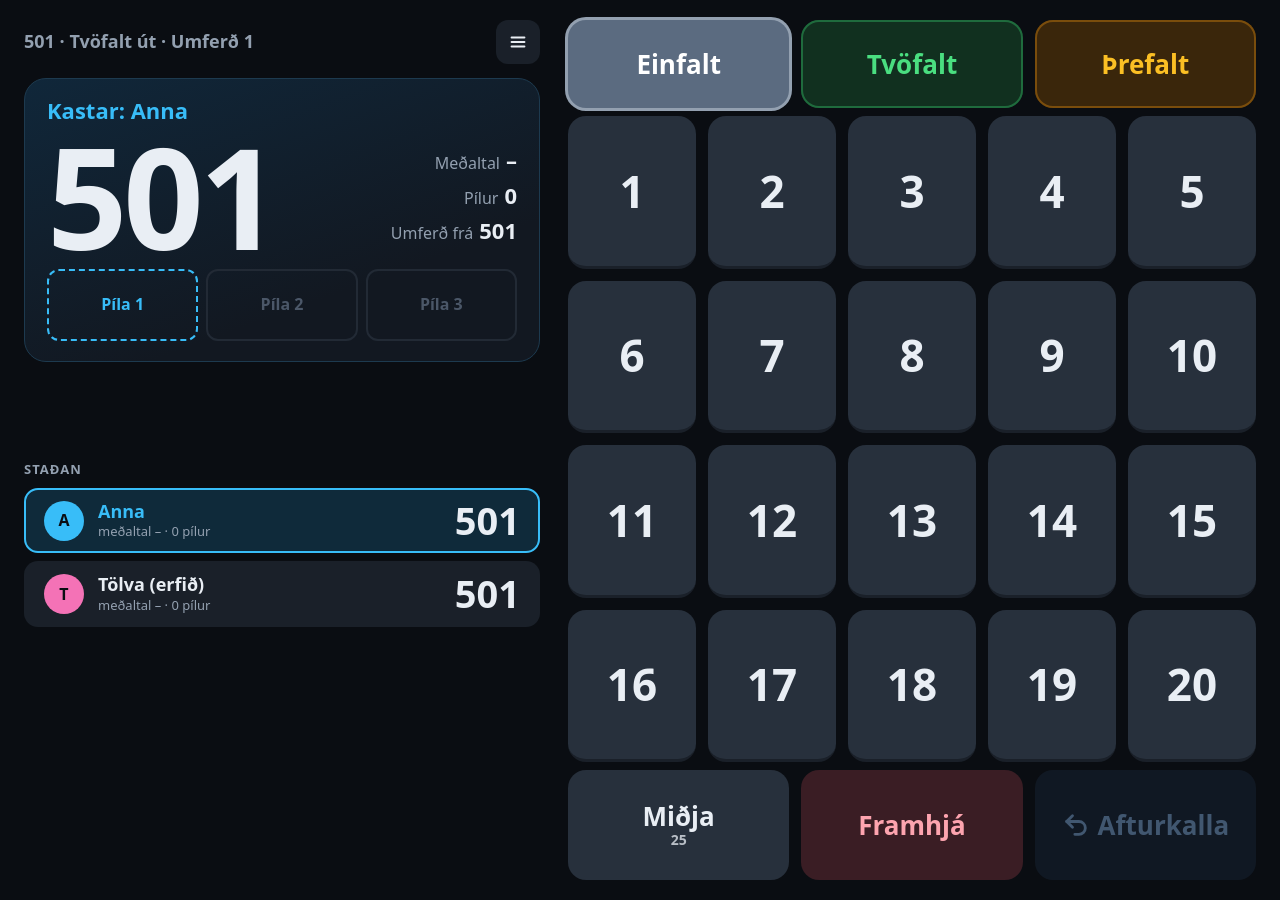
Test: GameShell with a computer › takes back a turn the computer is still throwing
Click the button named "Einfalt 20".
click(1192, 686)  # box x1=1128 y1=610 x2=1256 y2=762
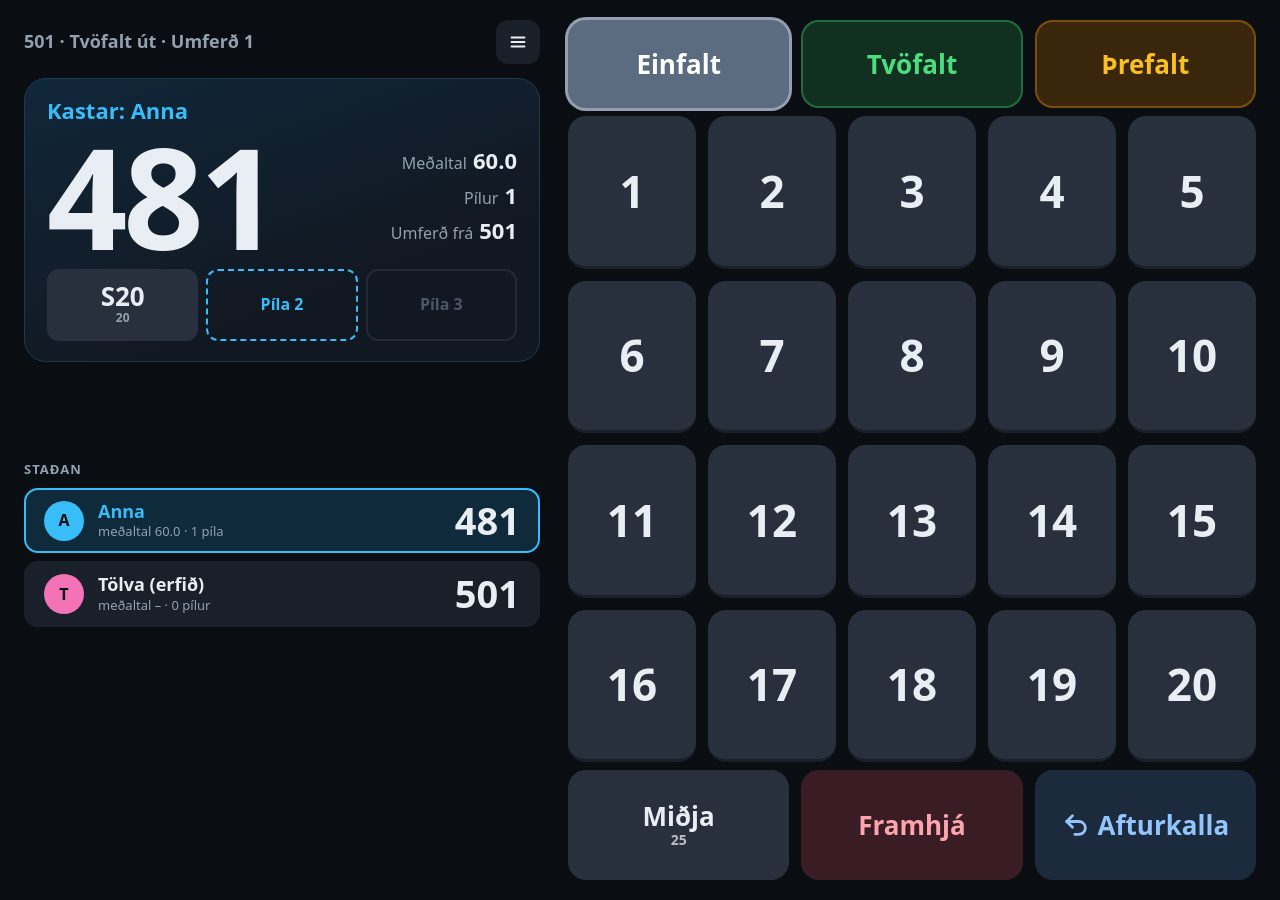
Click the button named "Einfalt 20".
click(1192, 686)  # box x1=1128 y1=610 x2=1256 y2=762
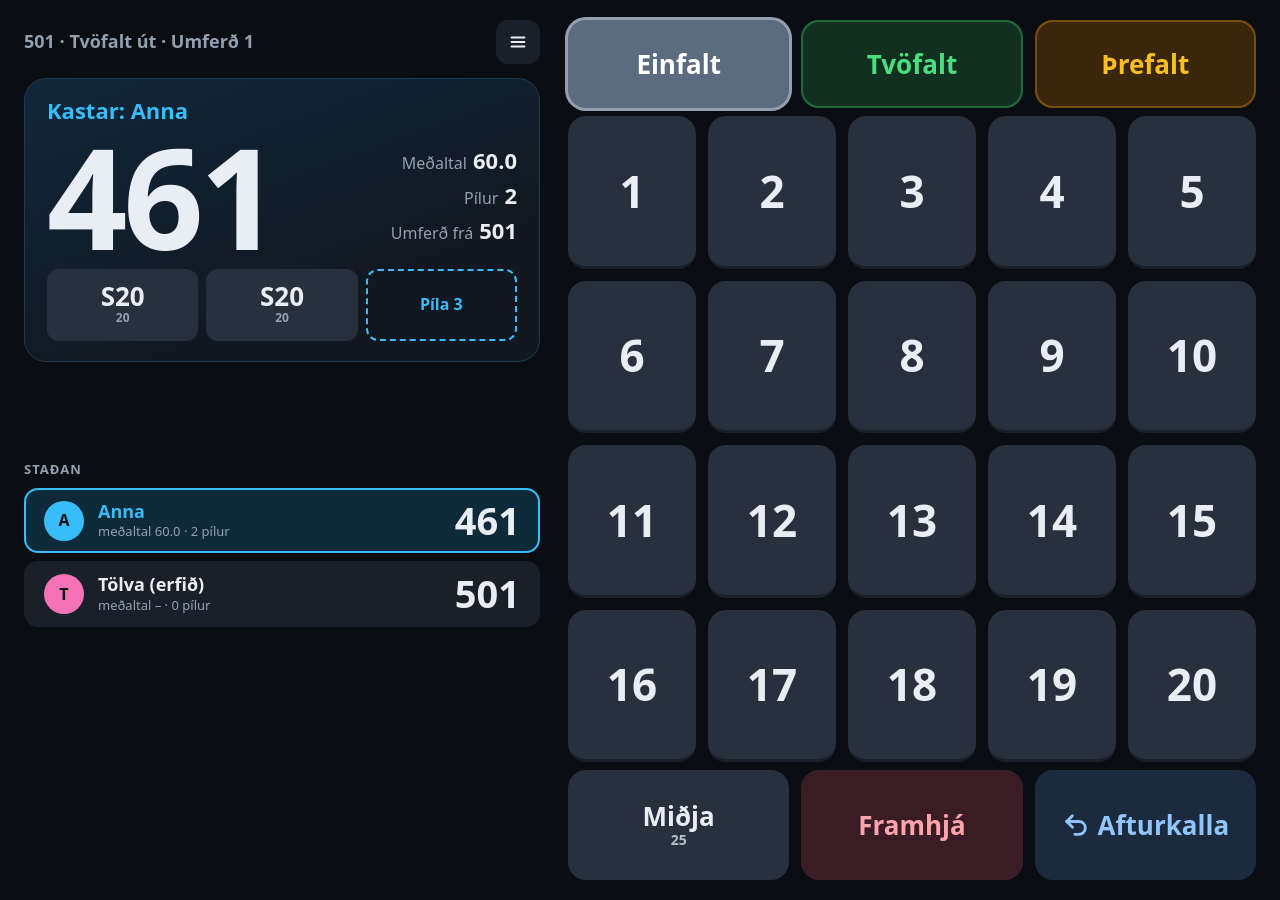
Click the button named "Einfalt 20".
click(1192, 686)  # box x1=1128 y1=610 x2=1256 y2=762
Wait 900 ms
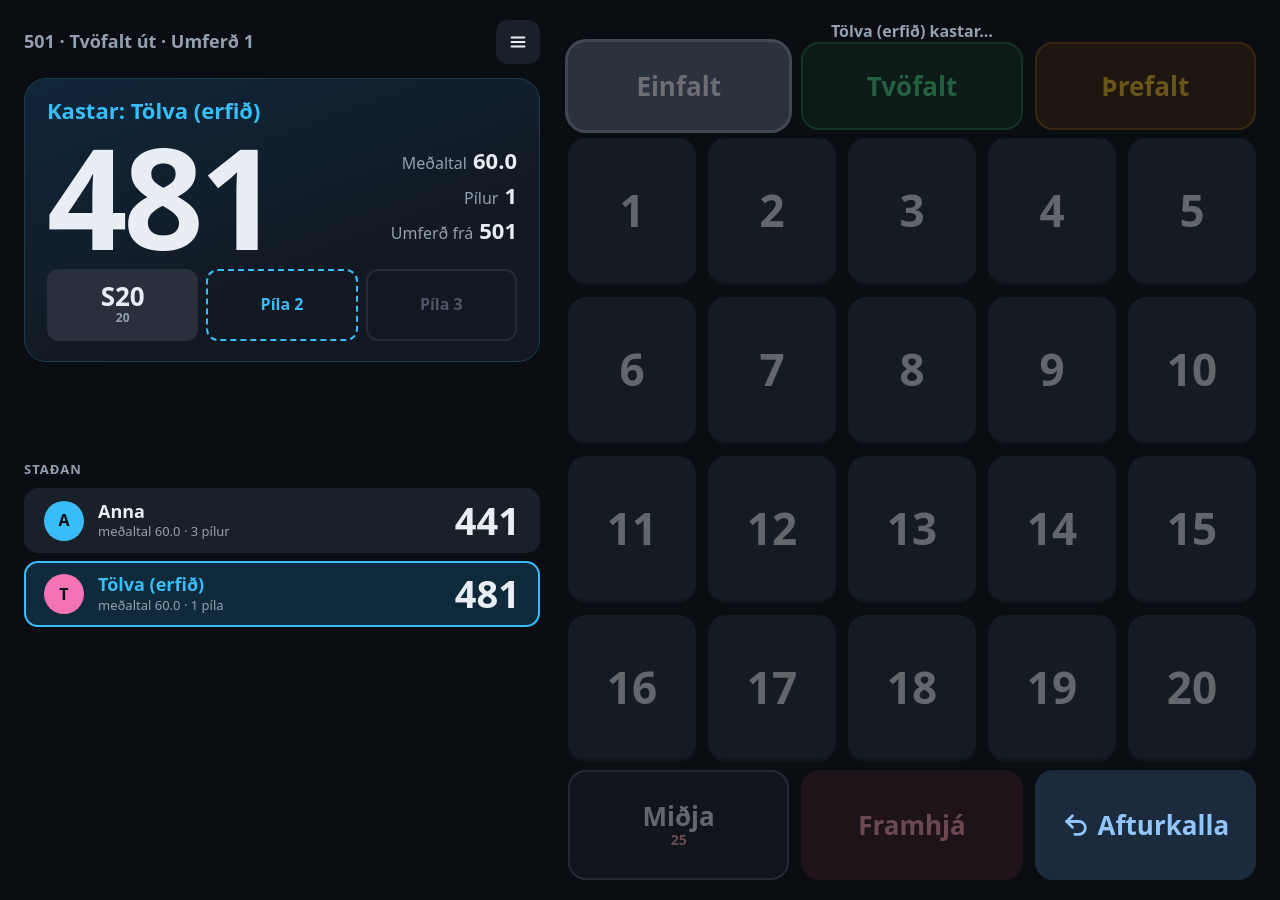
Click the button "Afturkalla".
click(1145, 825)  # box x1=1035 y1=770 x2=1256 y2=880
Wait 2700 ms
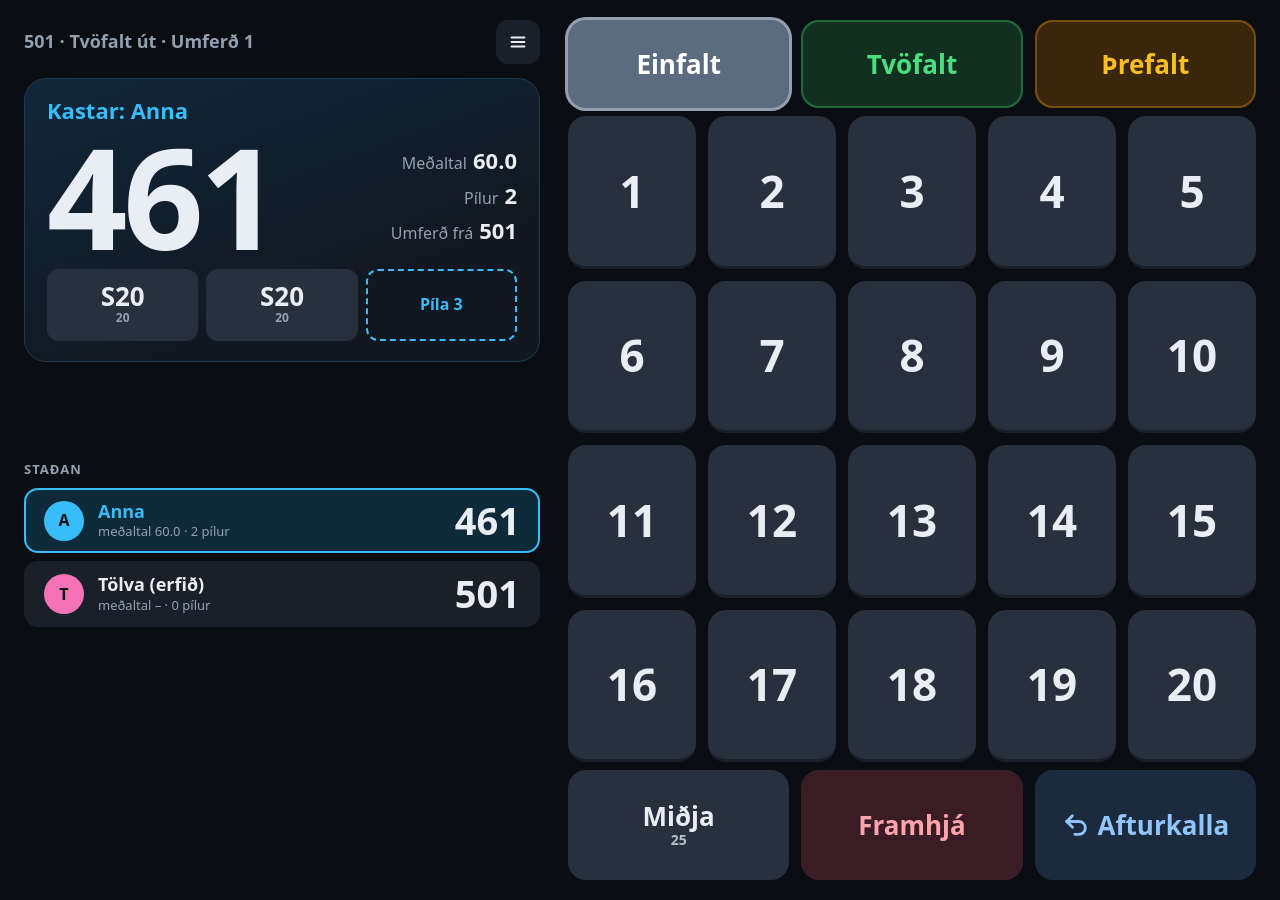
Expected: the text "Kastar: Anna" is shown, x1=47 y1=95 x2=188 y2=125
